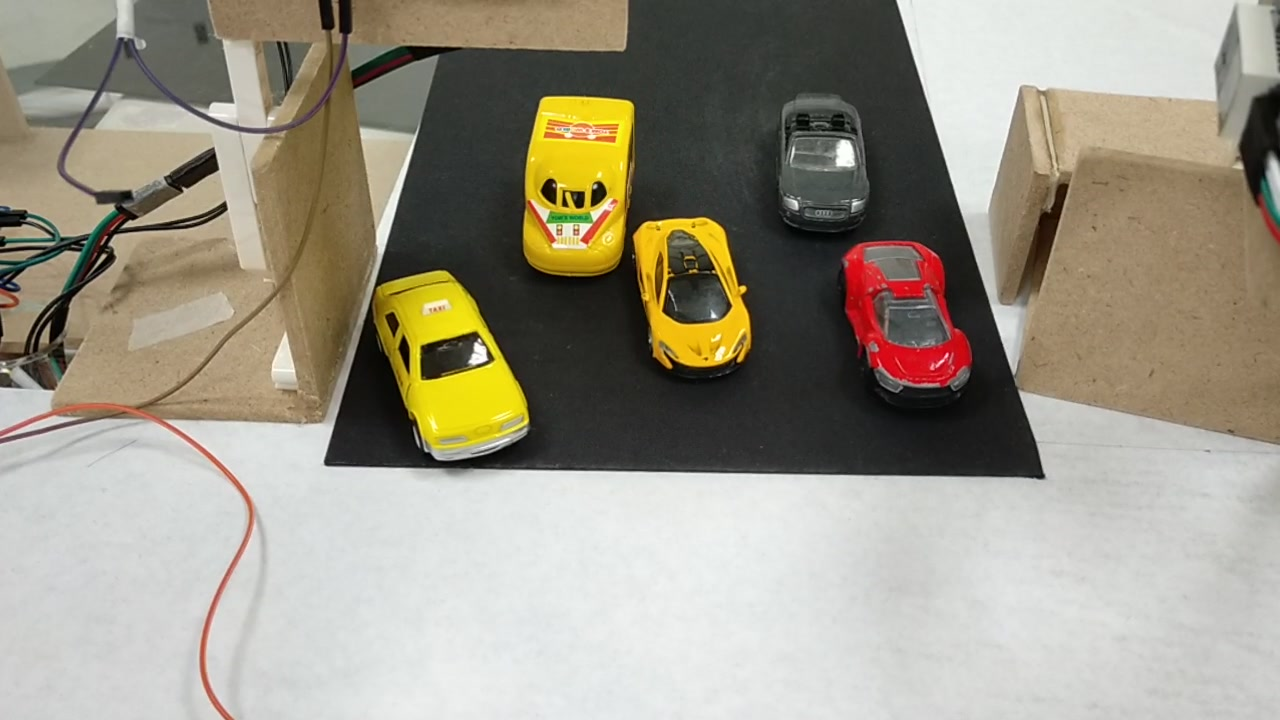car: (367, 282, 530, 463), (841, 241, 974, 408), (633, 217, 749, 383), (775, 101, 869, 234)
